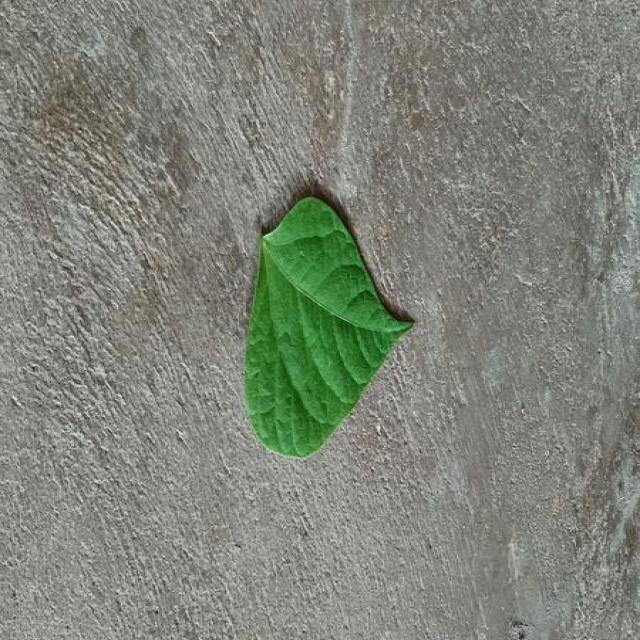beans: (245, 198, 412, 458)
